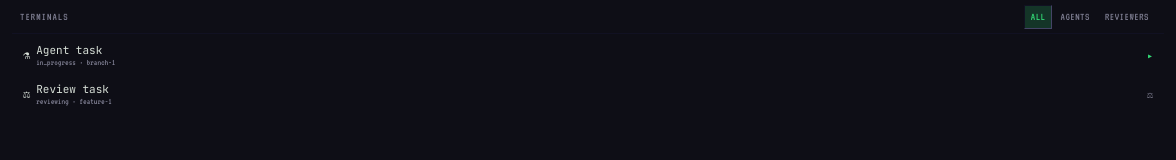
Test: AgentTerminalList › mixed agents and reviewers › shows only reviewers when filter is REVIEWERS
Click the tab "REVIEWERS" at (1127, 17), box [1098,5,1156,29]
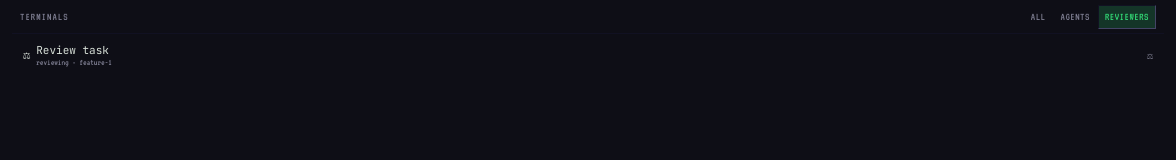
Check: the text "Review task" is shown, box [36,43,109,57]
Check: the button "Agent task" is gone
